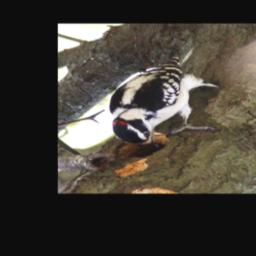Woodpecker: (110, 51, 219, 148)
